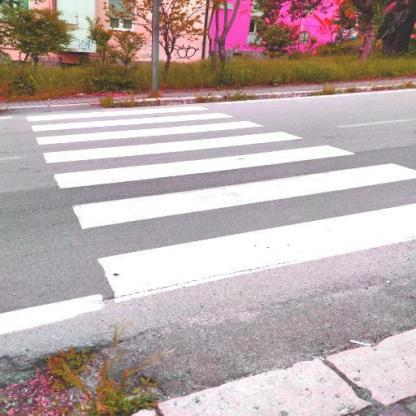crosswalk: (37, 128, 364, 194)
